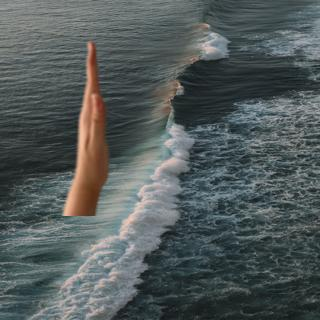Right: (54, 30, 122, 218)
